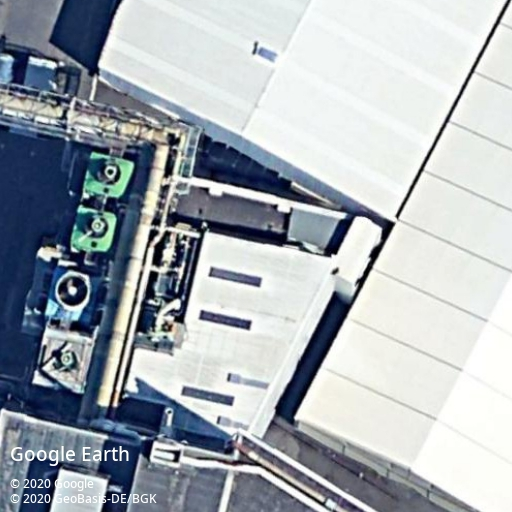Vent: (55, 272, 90, 310), (97, 161, 122, 185), (86, 215, 110, 240)
